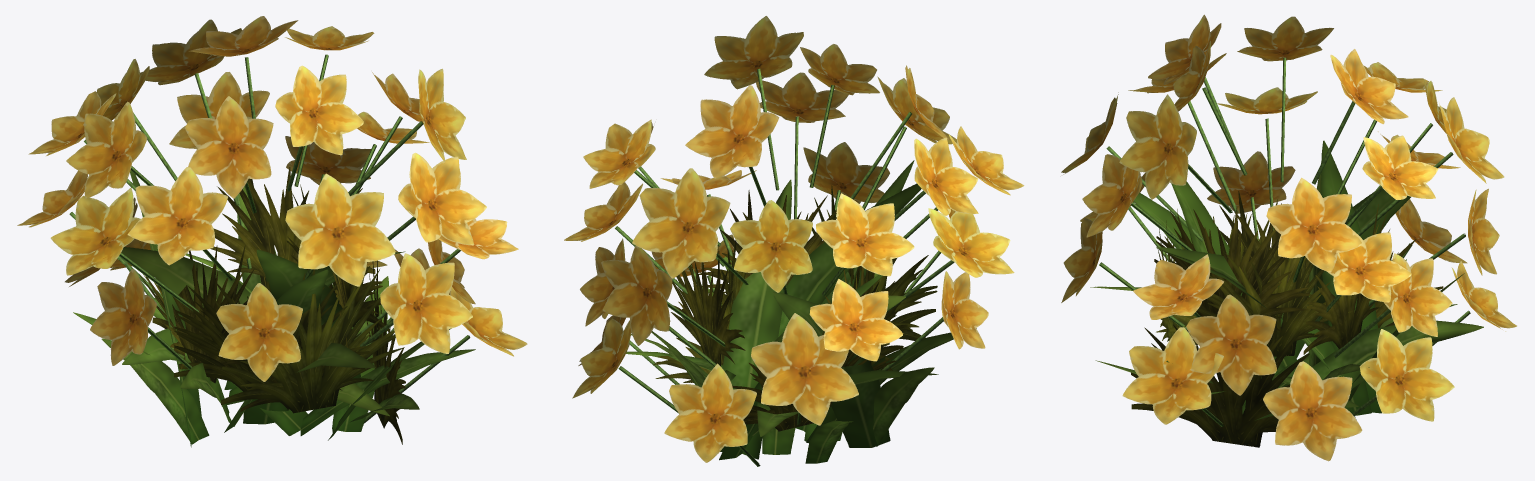
File: mm8_deco_plant23.glb
3 views of the same model, side by side, from view 1: azimuth 30°, elevation 25°; view 2: azimuth 150°, elevation 25°; view 3: azimuth 270°, elevation 25° (orthographic). The views are drawn at different scales.
Parts seen in each view (by area): view 1: Plant; view 2: Plant; view 3: Plant.
Boxes of the visible parts, <box> form: Plant: <box>17,16,527,447</box>; Plant: <box>564,16,1024,466</box>; Plant: <box>1061,14,1516,461</box>.
Size of the model in its own units: 1.06 by 0.9172 by 1.06.
Materials: 1 (1 with a texture image).
